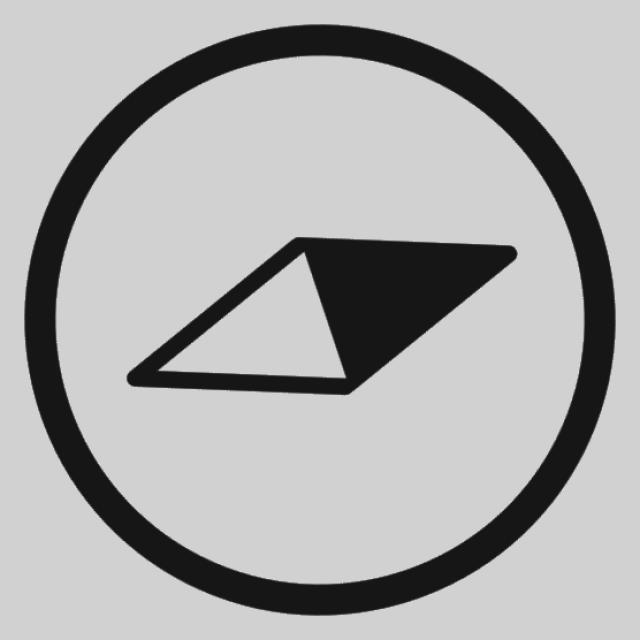compass: (13, 18, 630, 632)
